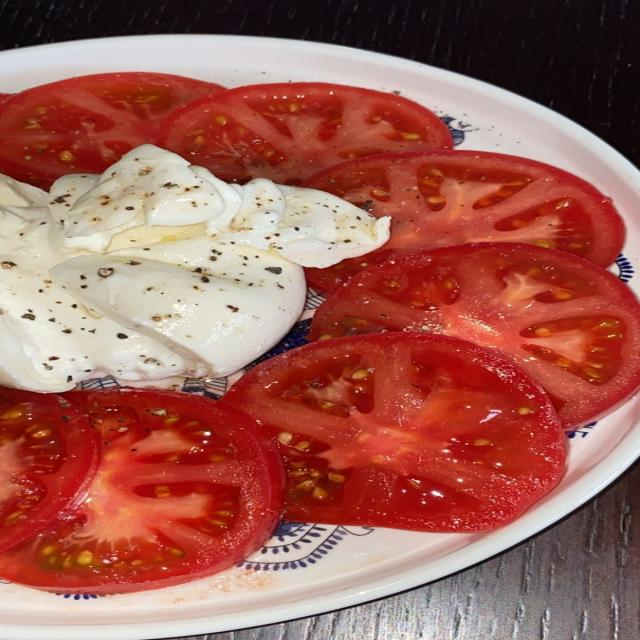sliced_tomato: (221, 333, 565, 531), (309, 243, 639, 427), (0, 389, 283, 593), (304, 150, 623, 291), (160, 83, 452, 184), (0, 72, 222, 185), (0, 388, 97, 551), (0, 93, 11, 102)
